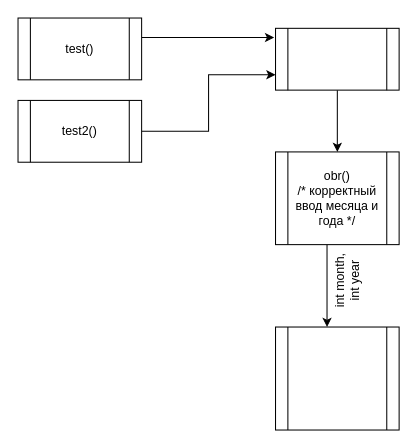
This 417x448 diagram has some shape labels left out. Here are the shapes that lost their labels. From the top down, the centre of each, then its label:
At (336,58): "main()".
At (336,378): "grid_output() /* вывод календаря */".
